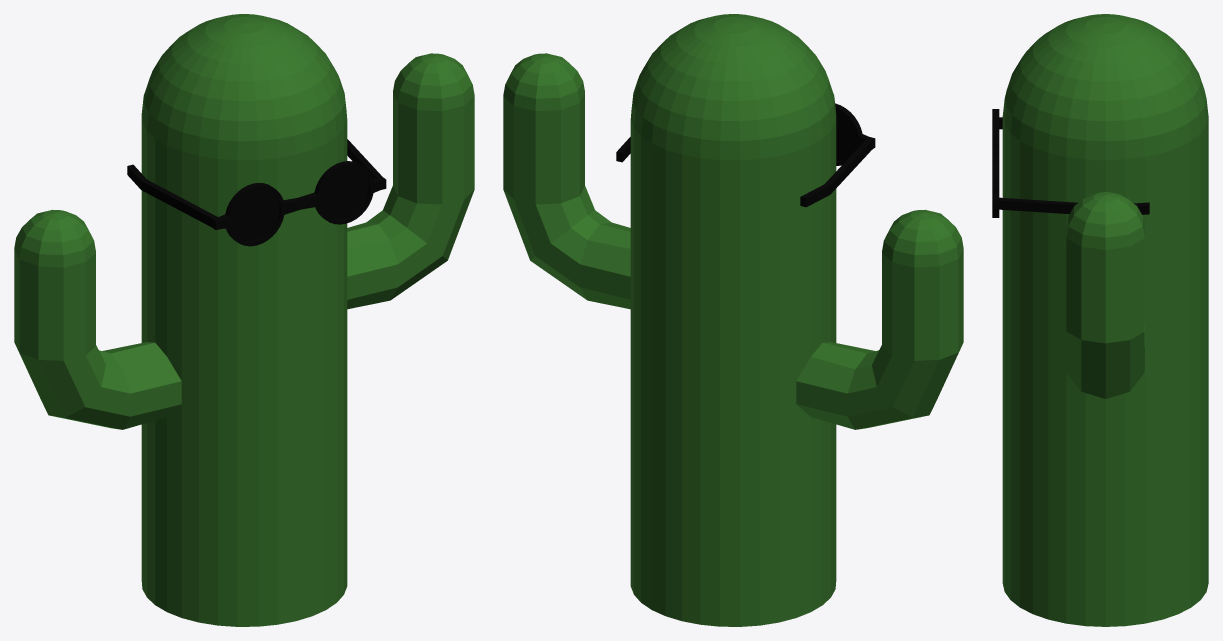
Rendered from foxy_cactus.glb.
3 renders of one model, left to right at view 1: azimuth 30°, elevation 25°; view 2: azimuth 150°, elevation 25°; view 3: azimuth 270°, elevation 25°, orthographic.
Parts seen in each view (by area): view 1: cactus, glasses; view 2: cactus, glasses; view 3: cactus, glasses.
Boxes of the visible parts, x1,y1,x2,y2 form: cactus: [14, 14, 474, 626]; glasses: [127, 139, 386, 246]; cactus: [503, 14, 963, 626]; glasses: [616, 103, 875, 207]; cactus: [1002, 14, 1208, 626]; glasses: [992, 109, 1149, 217].
Size of the model in its own units: 2.52 by 3 by 1.05.
